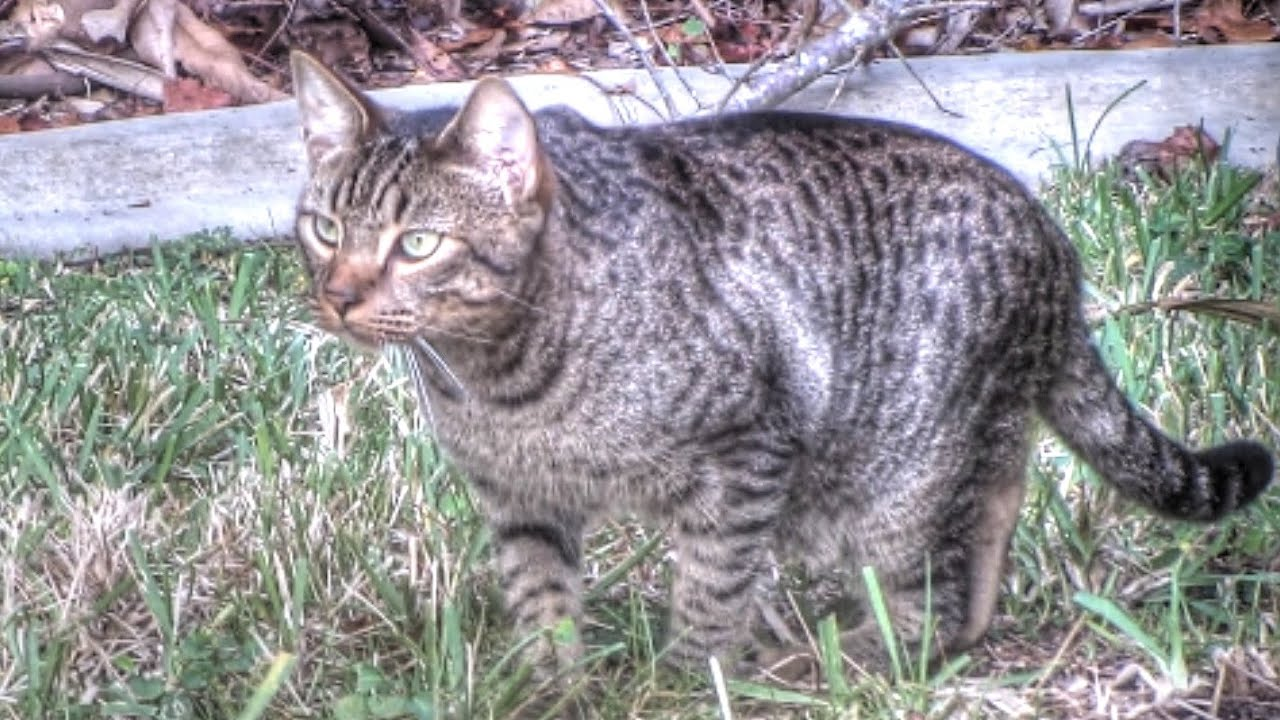Cat: (258, 25, 1279, 657)
